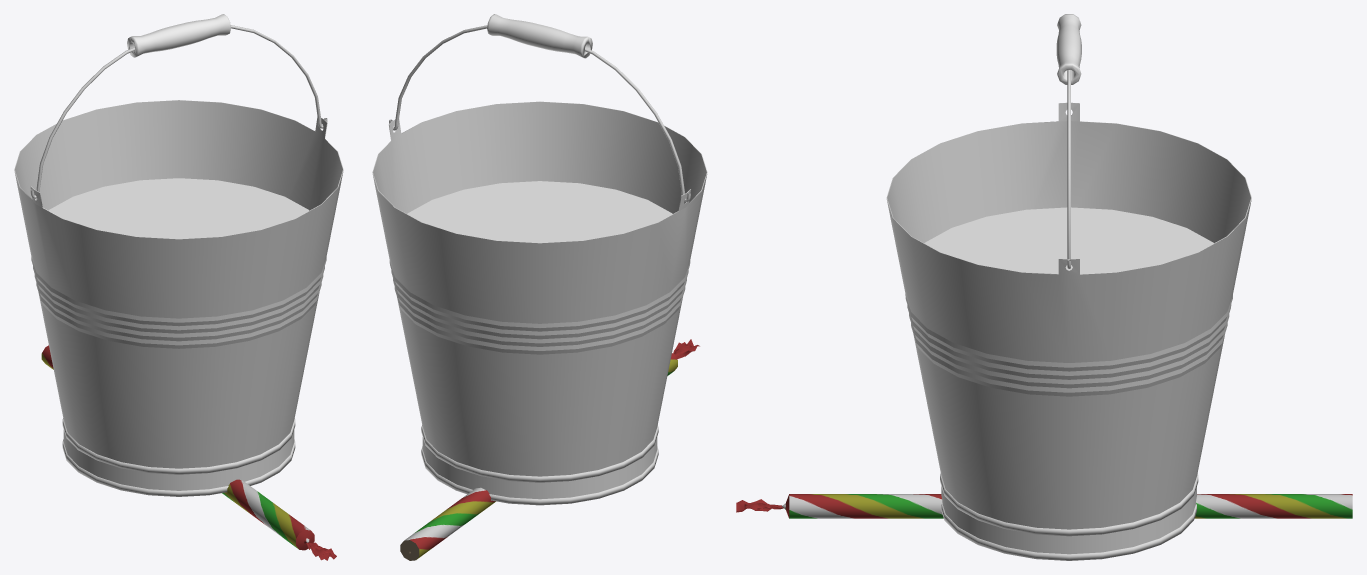
The model's file is fireworks.fbx.
3 renders of one model, left to right at view 1: azimuth 30°, elevation 25°; view 2: azimuth 150°, elevation 25°; view 3: azimuth 270°, elevation 25°, orthographic. The views are drawn at different scales.
Visible parts, largest first — view 1: Bucket, Water, BucketHandle, Hand2; view 2: Bucket, Water, BucketHandle, Hand2; view 3: Bucket, Water, Hand2, BucketHandle.
Part boxes in pixels (x1,y1,x2,y2): Bucket: (14, 100, 343, 496); Water: (48, 178, 309, 238); BucketHandle: (30, 14, 327, 198); Hand2: (41, 345, 336, 560); Bucket: (372, 101, 707, 505); Water: (407, 181, 672, 242); BucketHandle: (389, 14, 690, 201); Hand2: (400, 339, 699, 560); Bucket: (886, 102, 1251, 560); Water: (924, 207, 1213, 274); Hand2: (736, 494, 1352, 518); BucketHandle: (1056, 14, 1081, 268).
Size of what is drawn, in the model's own units: 0.3006 by 0.4195 by 0.4893.
Materials: 4 (1 with a texture image).
